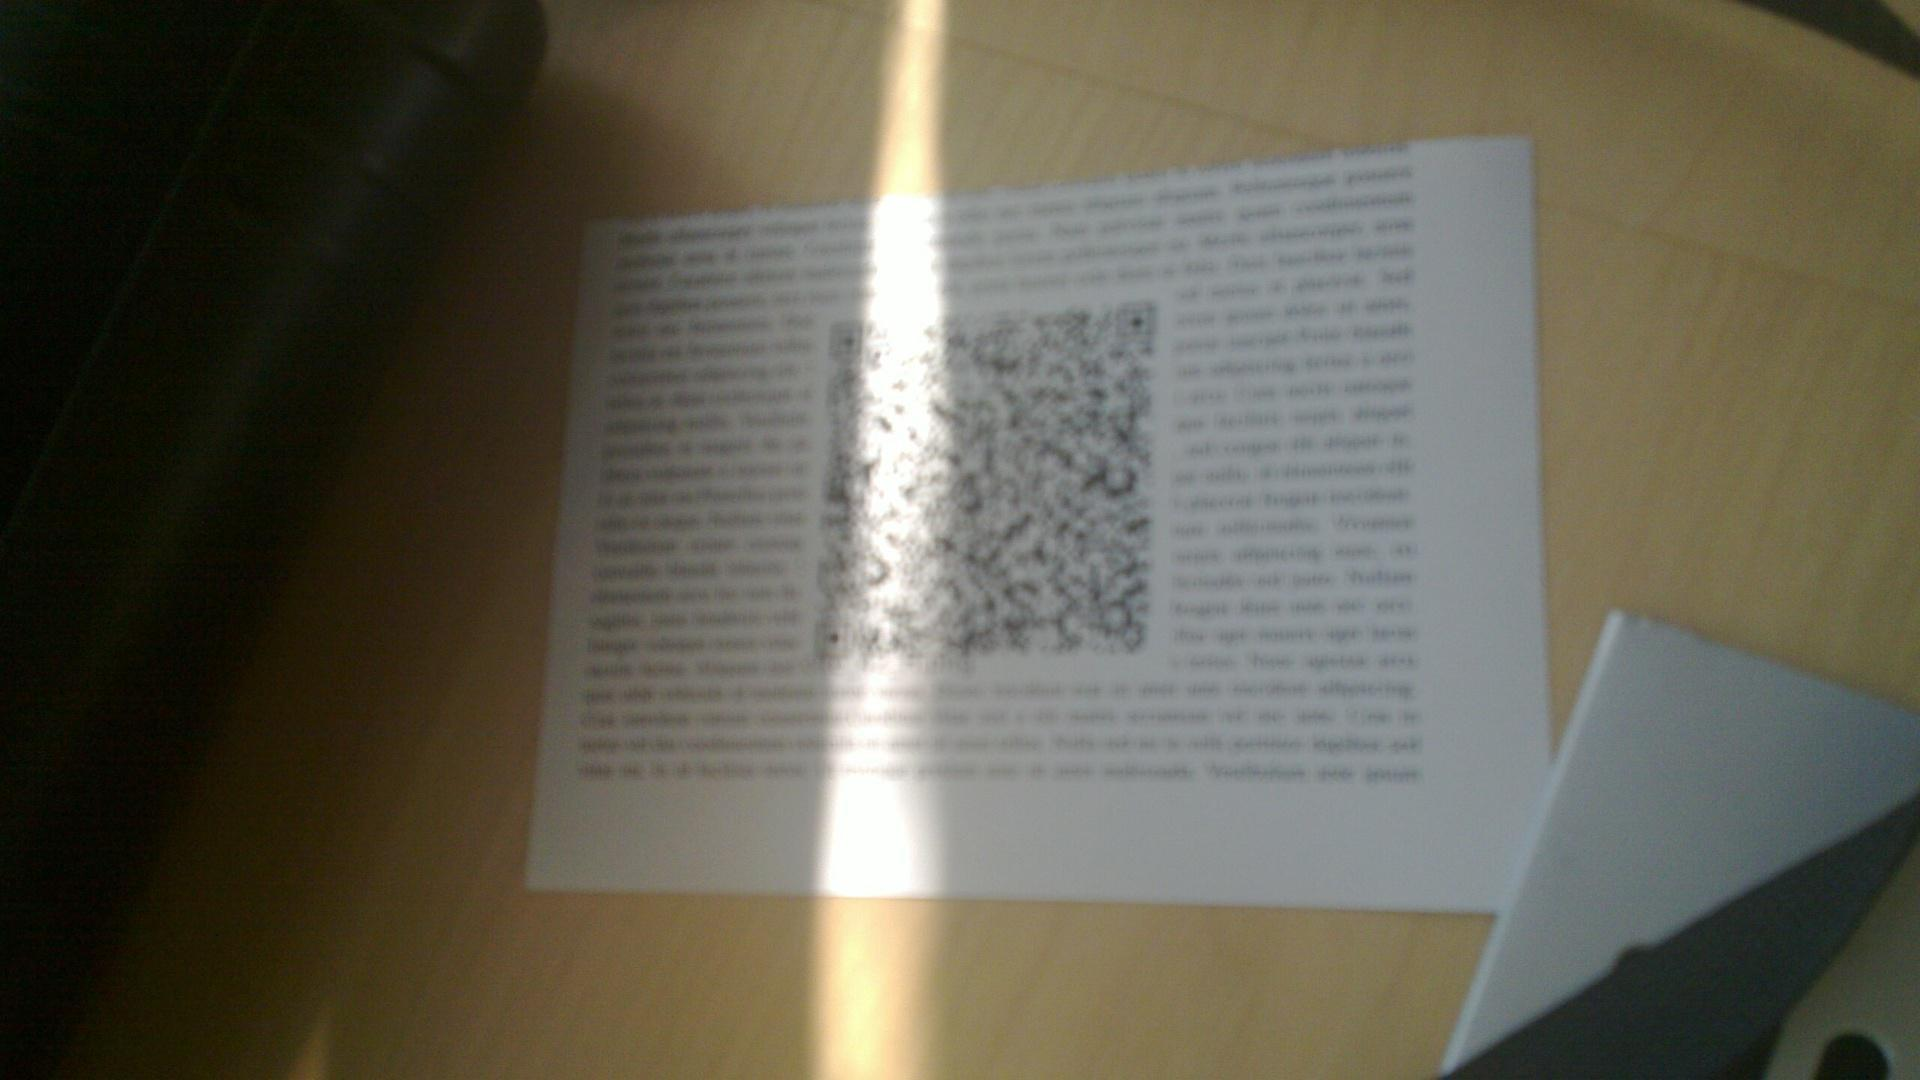Finder pattern: (1112, 302, 1164, 343), (814, 618, 857, 659), (829, 318, 866, 356)
